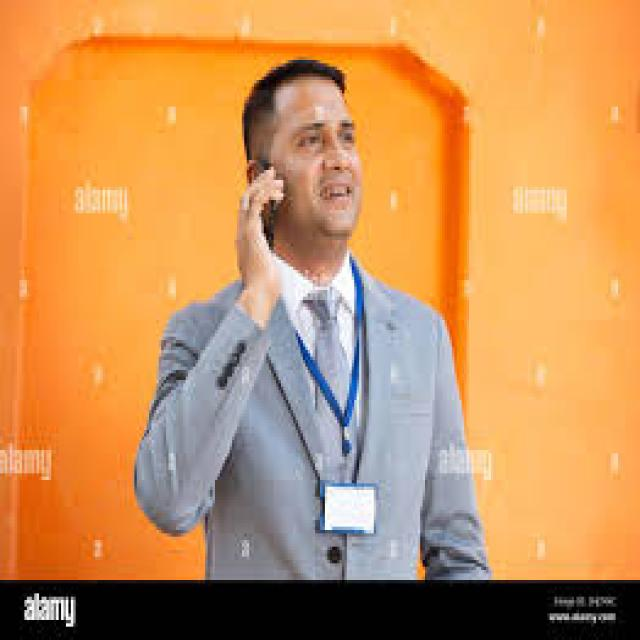id_card: (279, 282, 384, 542)
